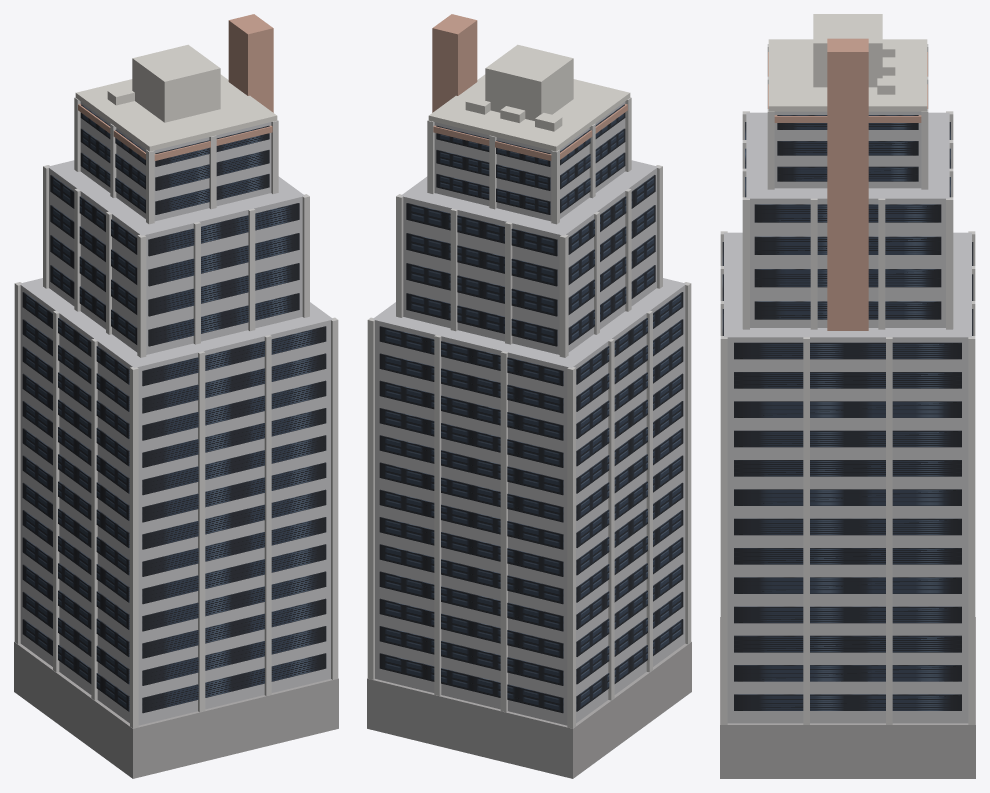
The model's file is skyline-tower-slim-tank.glb.
3 renders of one model, left to right at view 1: azimuth 30°, elevation 25°; view 2: azimuth 150°, elevation 25°; view 3: azimuth 270°, elevation 25°, orthographic. The views are drawn at different scales.
Parts seen in each view (by area): view 1: windows, body-1, pilasters, podium, body-2, parapet, roof-detail, body-3, core, crown-band; view 2: windows, body-1, pilasters, podium, body-2, roof-detail, parapet, body-3, core, crown-band; view 3: windows, body-1, pilasters, podium, body-2, core, parapet, body-3, roof-detail, crown-band.
Boxes of the visible parts, x1=… form: windows: x1=22, y1=104, x2=326, y2=713; body-1: x1=19, y1=278, x2=333, y2=725; pilasters: x1=14, y1=97, x2=338, y2=728; podium: x1=14, y1=642, x2=338, y2=778; body-2: x1=48, y1=160, x2=304, y2=354; parapet: x1=75, y1=74, x2=277, y2=151; roof-detail: x1=107, y1=44, x2=220, y2=122; body-3: x1=80, y1=101, x2=271, y2=221; core: x1=228, y1=14, x2=273, y2=112; crown-band: x1=78, y1=104, x2=272, y2=160; windows: x1=379, y1=104, x2=683, y2=713; body-1: x1=372, y1=278, x2=686, y2=725; pilasters: x1=367, y1=97, x2=691, y2=728; podium: x1=367, y1=642, x2=691, y2=778; body-2: x1=401, y1=160, x2=657, y2=354; roof-detail: x1=465, y1=44, x2=573, y2=131; parapet: x1=428, y1=74, x2=630, y2=151; body-3: x1=434, y1=101, x2=625, y2=221; core: x1=432, y1=14, x2=477, y2=112; crown-band: x1=433, y1=104, x2=627, y2=160; windows: x1=722, y1=115, x2=973, y2=710; body-1: x1=724, y1=232, x2=971, y2=723; pilasters: x1=720, y1=44, x2=975, y2=724; podium: x1=720, y1=617, x2=975, y2=778; body-2: x1=746, y1=112, x2=949, y2=327; core: x1=827, y1=38, x2=868, y2=330; parapet: x1=768, y1=39, x2=927, y2=111; body-3: x1=774, y1=111, x2=921, y2=188; roof-detail: x1=813, y1=14, x2=895, y2=94; crown-band: x1=768, y1=52, x2=927, y2=122.
Size of the model in its own units: 25.8 by 80 by 25.8.
6 materials, 1 textured.
